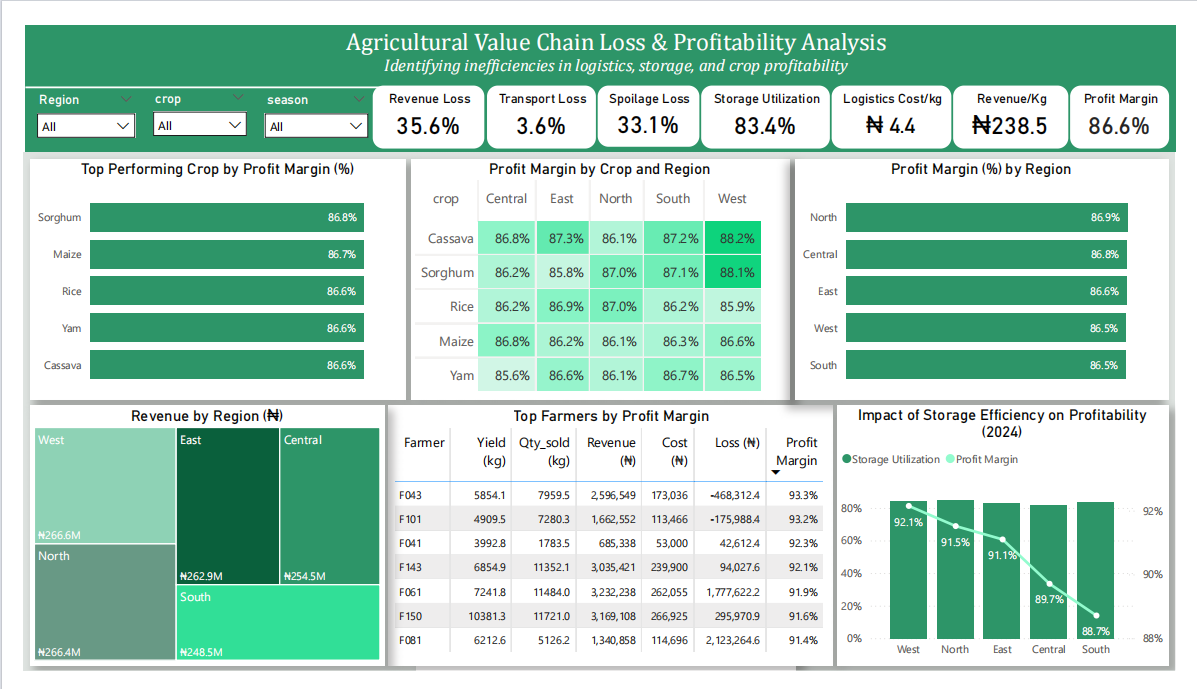

The dashboard page shown, as its layout file describes it:
{"tool":"powerbi","page":{"name":"Profitability & Perfomance Analysis","canvas":[1280,720],"ordinal":1},"visuals":[{"type":"card","title":"Transport Loss","fields":{"Values":["public farm_production.transport_loss_pct"]},"box":[514.3,69.6,120.9,69.6],"z":0,"group":"g2"},{"type":"shape","box":[0,144.1,1278.8,576.5],"z":0},{"type":"shape","box":[1.7,3.3,1278.8,140.8],"z":1000},{"type":"card","title":"Spoilage Loss","fields":{"Values":["public sales_transaction.spoilage_loss_pct"]},"box":[637.7,69.6,112.6,67.9],"z":1000,"group":"g2"},{"type":"textbox","box":[152.4,0,1013.8,72.9],"z":2000},{"type":"card","title":"Revenue/Kg","fields":{"Values":["public sales_transaction.revenue_per_kg"]},"box":[1032.8,69.6,127.5,69.6],"z":2000,"group":"g2"},{"type":"slicer","title":"crop","fields":{"Values":["public farm_production.crop"]},"box":[134.2,70.9,124.2,72.9],"z":2000,"group":"g1"},{"type":"shape","box":[1.7,61.3,399.2,21.5],"z":3000},{"type":"card","title":"Revenue Loss","fields":{"Values":["public sales_transaction.estimated_revenue_loss"]},"box":[387.6,69.6,124.2,69.6],"z":3000,"group":"g2"},{"type":"slicer","title":"Season","fields":{"Values":["public farm_production.season"]},"box":[258.4,72.6,134.2,71.2],"z":3000,"group":"g1"},{"type":"card","title":"Logistics Cost/kg","fields":{"Values":["public sales_transaction.logistic_cost_per_kg"]},"box":[897.8,69.6,132.5,69.6],"z":4000,"group":"g2"},{"type":"group","id":"g1","title":"Group 2","box":[5,70.9,387.6,72.9],"z":4000},{"type":"slicer","title":"Region","fields":{"Values":["public farm_production.region"]},"box":[5,72.6,129.2,71.2],"z":4000,"group":"g1"},{"type":"group","id":"g2","title":"Group 1","box":[387.6,69.6,884.6,69.6],"z":5000},{"type":"card","title":"Profit Margin ","fields":{"Values":["public sales_transaction.pct_profit_margin"]},"box":[1162.8,69.6,109.3,69.6],"z":5000,"group":"g2"},{"type":"card","title":"Storage Utilization","fields":{"Values":["public sales_transaction.storage_utilization"]},"box":[752.9,69.6,142.5,69.6],"z":6000,"group":"g2"},{"type":"clusteredColumnChart","title":"Revenue  by Crop","fields":{"Category":["public sales_transaction.crop"],"Y":["public sales_transaction.total_revenue"]},"box":[437.3,453.9,420.7,266.7],"z":6000},{"type":"clusteredBarChart","title":"Top Performing Crop by Profit Margin (%)","fields":{"Y":["public sales_transaction.pct_profit_margin"],"Category":["public sales_transaction.crop"]},"box":[6.6,152.4,417.4,266.7],"z":7000},{"type":"pivotTable","title":"Profit Margin by Crop and Region","fields":{"Values":["public sales_transaction.pct_profit_margin"],"Rows":["public farm_production.crop"],"Columns":["public farm_production.region"]},"box":[430.7,152.4,420.7,266.7],"z":8000},{"type":"tableEx","title":"Top Farmers by Profit Margin","fields":{"Values":["public farmer_profile.farmer_id","Sum(public farm_production.yield_kg)","Sum(public sales_transaction.qty_sold_kg)","public sales_transaction.total_revenue","public sales_transaction.total_cost","public sales_transaction.revenue_loss","public sales_transaction.pct_profit_margin"]},"box":[405.8,425.7,493.6,288.2],"z":9000},{"type":"clusteredBarChart","title":"Profit Margin (%) by Region","fields":{"Y":["public sales_transaction.pct_profit_margin"],"Category":["public market_prices.region"]},"box":[858.1,152.4,414.1,266.7],"z":10000},{"type":"lineClusteredColumnComboChart","title":"Impact of Storage Efficiency on Profitability (2024)","fields":{"Category":["public market_prices.region"],"Y":["public sales_transaction.storage_utilization"],"Y2":["public sales_transaction.pct_profit_margin"]},"box":[904.4,425.7,367.7,288.2],"z":11000},{"type":"treemap","title":"Revenue by Region (₦)","fields":{"Group":["public farm_production.region"],"Values":["public sales_transaction.total_revenue"]},"box":[6.6,425.7,394.2,288.2],"z":12000}]}

Visuals, with their boxes in screenshot pixels (x1, y1, x2, y2), scaled from the page's 1280x720 canvas onto the 1197x689 screenshot:
"Transport Loss" card: rect(481, 67, 594, 133)
shape: rect(0, 138, 1196, 688)
shape: rect(2, 3, 1196, 138)
"Spoilage Loss" card: rect(596, 67, 702, 132)
textbox: rect(143, 0, 1091, 70)
"Revenue/Kg" card: rect(966, 67, 1085, 133)
"crop" slicer: rect(125, 68, 242, 138)
shape: rect(2, 59, 375, 79)
"Revenue Loss" card: rect(362, 67, 479, 133)
"Season" slicer: rect(242, 69, 367, 138)
"Logistics Cost/kg" card: rect(840, 67, 963, 133)
"Group 2" group: rect(5, 68, 367, 138)
"Region" slicer: rect(5, 69, 125, 138)
"Group 1" group: rect(362, 67, 1190, 133)
"Profit Margin " card: rect(1087, 67, 1190, 133)
"Storage Utilization" card: rect(704, 67, 837, 133)
"Revenue  by Crop" clusteredColumnChart: rect(409, 434, 802, 688)
"Top Performing Crop by Profit Margin (%)" clusteredBarChart: rect(6, 146, 397, 401)
"Profit Margin by Crop and Region" pivotTable: rect(403, 146, 796, 401)
"Top Farmers by Profit Margin" tableEx: rect(379, 407, 841, 683)
"Profit Margin (%) by Region" clusteredBarChart: rect(802, 146, 1190, 401)
"Impact of Storage Efficiency on Profitability (2024)" lineClusteredColumnComboChart: rect(846, 407, 1190, 683)
"Revenue by Region (₦)" treemap: rect(6, 407, 375, 683)
